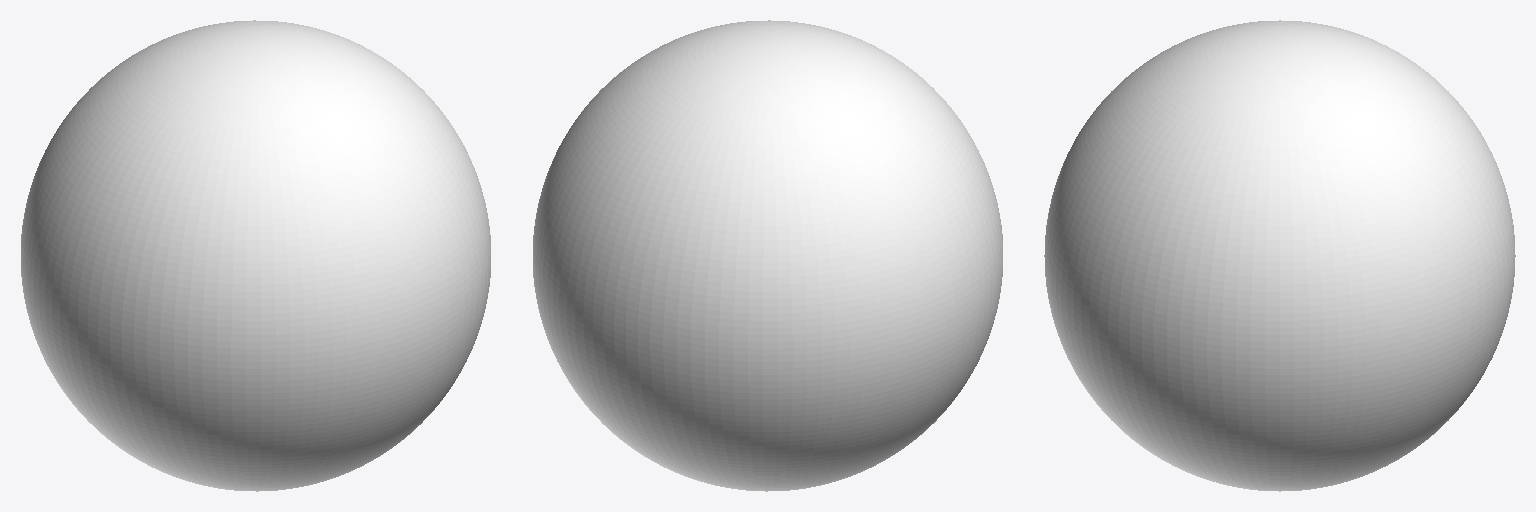
Rendered from sun.obj.
3 views of the same model, side by side, from view 1: azimuth 30°, elevation 25°; view 2: azimuth 150°, elevation 25°; view 3: azimuth 270°, elevation 25° (orthographic).
Parts seen in each view (by area): view 1: Object.1; view 2: Object.1; view 3: Object.1.
Part boxes in pixels (bbox=[...]): Object.1: bbox=[21, 20, 490, 491]; Object.1: bbox=[533, 20, 1002, 491]; Object.1: bbox=[1044, 20, 1515, 491].
Size of the model in its own units: 200 by 200 by 200.